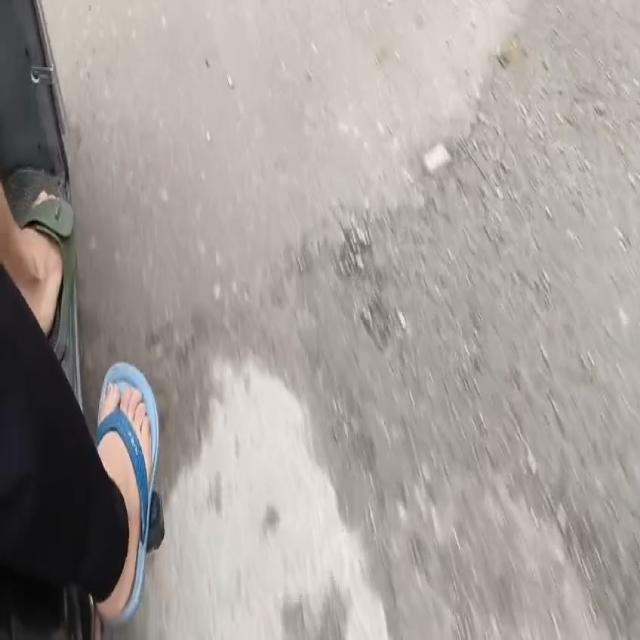road-pothole: (344, 39, 635, 599)
